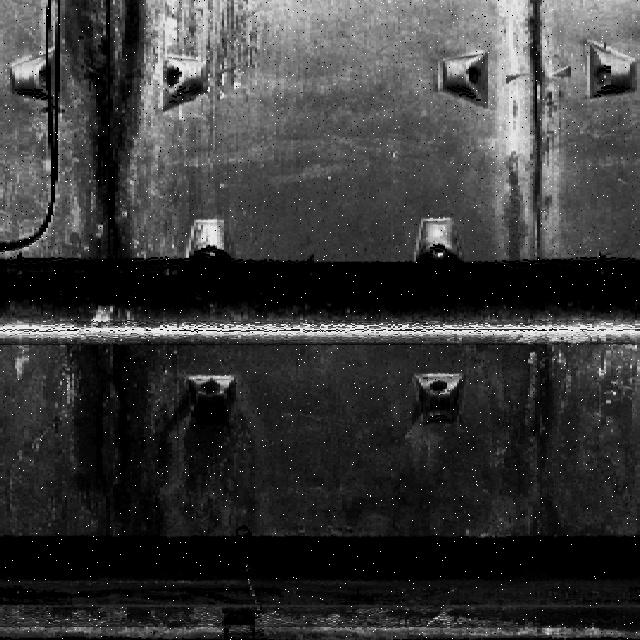leakage: (57, 1, 166, 261), (64, 342, 177, 533), (499, 1, 559, 258)
